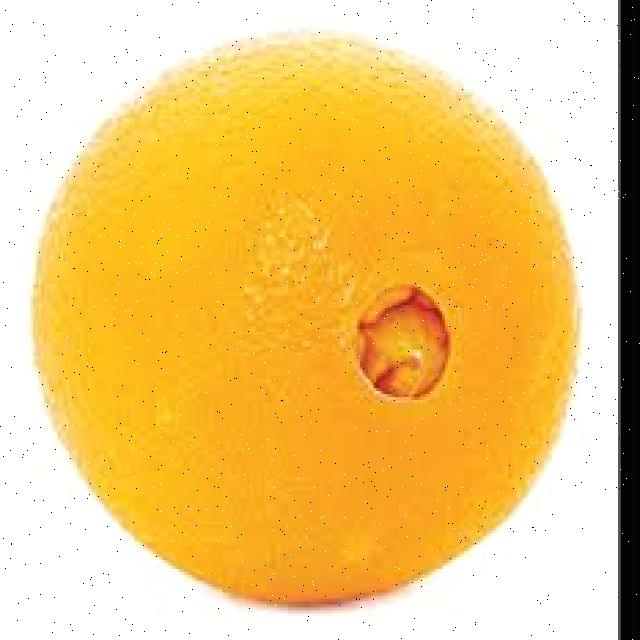Ripe: (25, 19, 585, 611)
